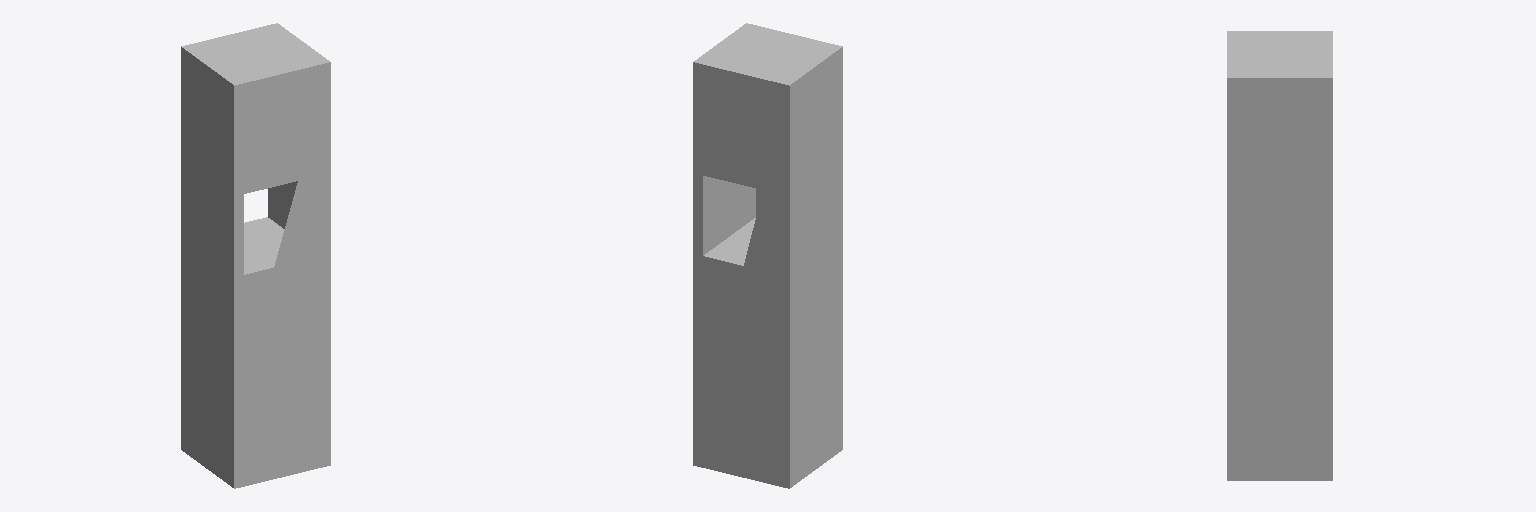
File: shelf.obj
The picture shows the model from 3 angles: view 1: azimuth 30°, elevation 25°; view 2: azimuth 150°, elevation 25°; view 3: azimuth 270°, elevation 25°; orthographic projection.
Parts seen in each view (by area): view 1: Cube; view 2: Cube; view 3: Cube.
Boxes of the visible parts, box(x1,y1,x2,y2) form: Cube: box(181, 23, 330, 488); Cube: box(693, 23, 842, 488); Cube: box(1227, 31, 1332, 480).
Size of the model in its own units: 0.5006 by 2 by 0.48.